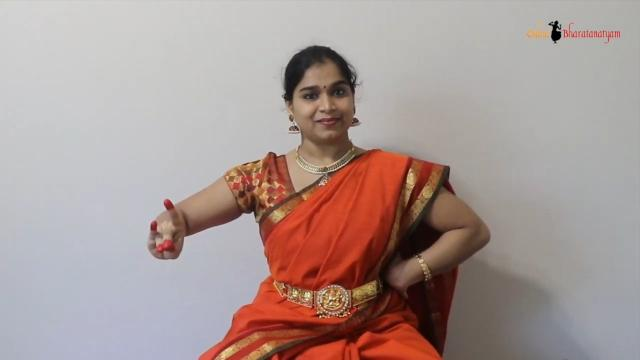sinhamukh: (132, 183, 212, 289)
